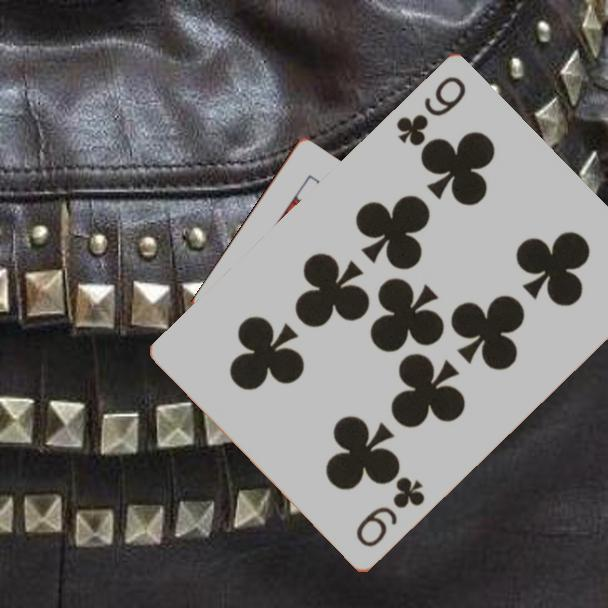c09: (392, 73, 470, 150), (352, 473, 428, 551)
